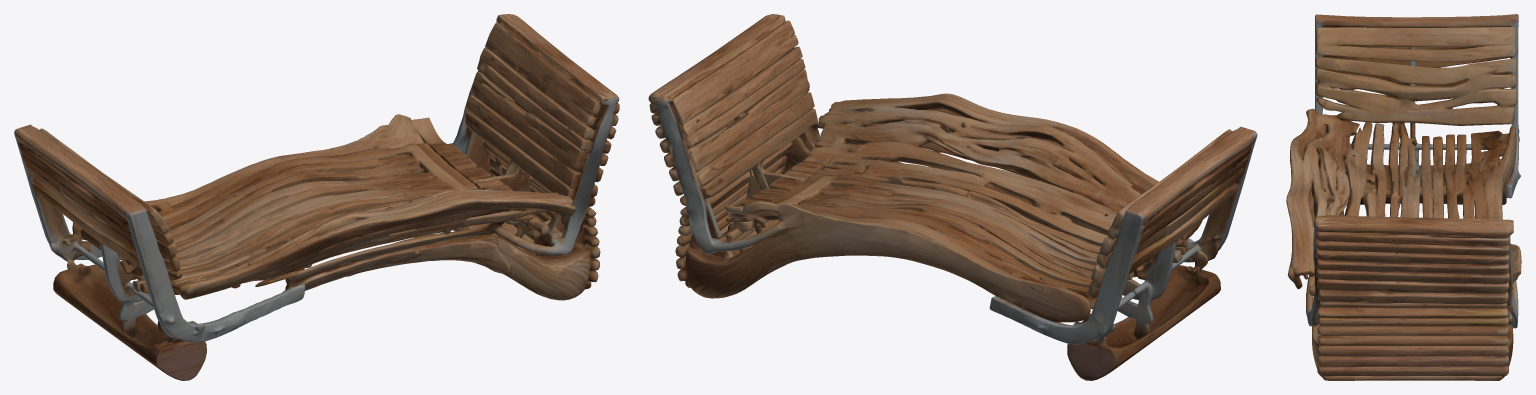
Rendered from plaza-seat-wavy.glb.
3 renders of one model, left to right at view 1: azimuth 30°, elevation 25°; view 2: azimuth 150°, elevation 25°; view 3: azimuth 270°, elevation 25°, orthographic. The views are drawn at different scales.
Visible parts, largest first — view 1: tripo_node_2dd97202-2837-4475-b896-45c7fb840e27; view 2: tripo_node_2dd97202-2837-4475-b896-45c7fb840e27; view 3: tripo_node_2dd97202-2837-4475-b896-45c7fb840e27.
Part boxes in pixels (x1,y1,x2,y2): tripo_node_2dd97202-2837-4475-b896-45c7fb840e27: (14,14,619,380); tripo_node_2dd97202-2837-4475-b896-45c7fb840e27: (648,14,1257,380); tripo_node_2dd97202-2837-4475-b896-45c7fb840e27: (1286,14,1521,380).
Bounding box in the file's own units: 2.63 × 1 × 1.22.
1 material, 1 textured.
